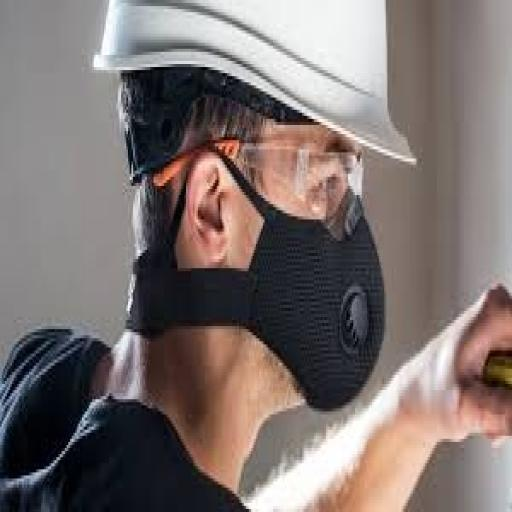mask: (241, 190, 392, 414)
